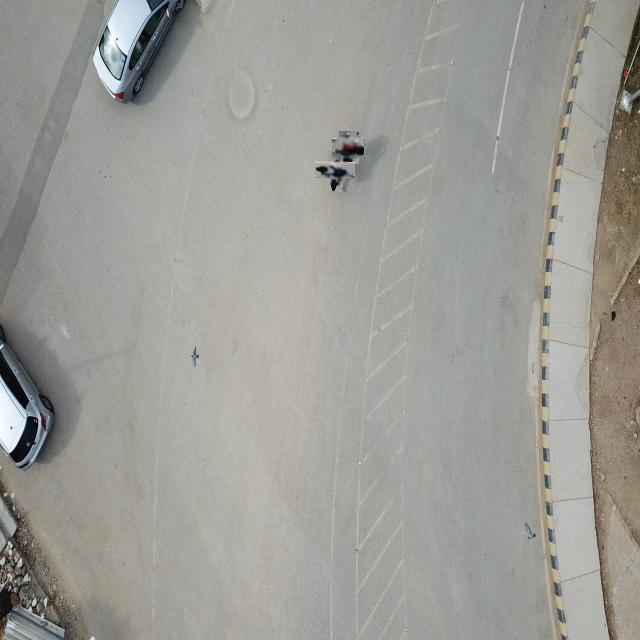Manusia: (321, 156, 350, 186), (336, 135, 363, 162)
